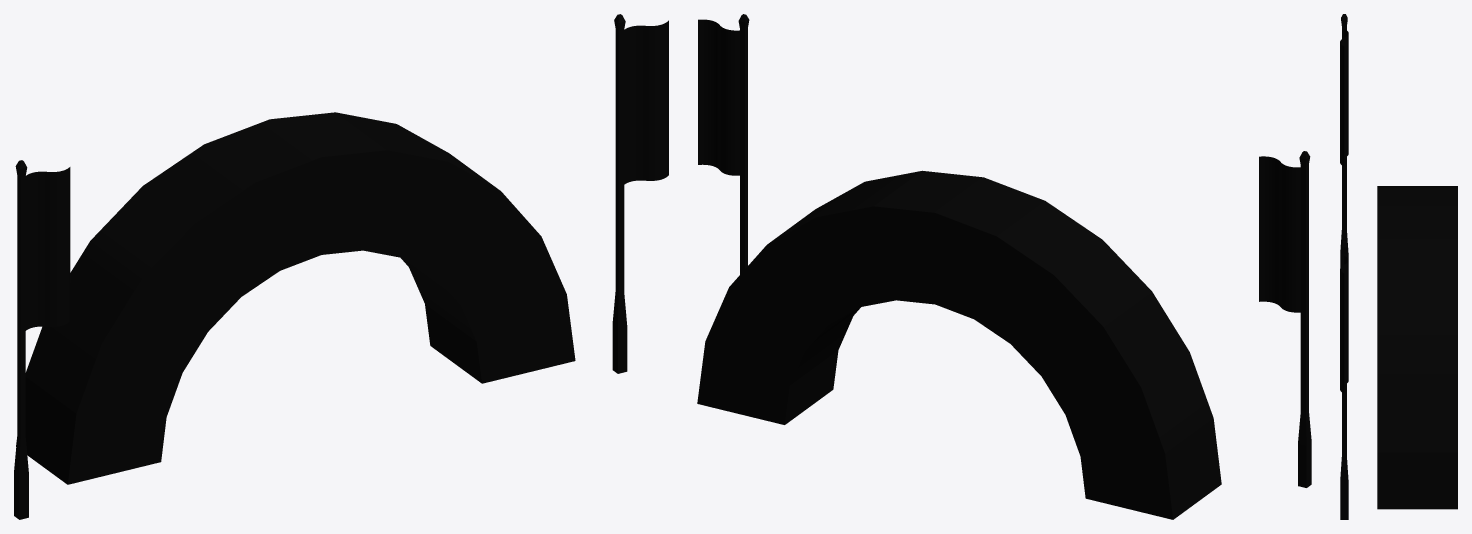
The model's file is gantry.glb.
The picture shows the model from 3 angles, left to right: view 1: azimuth 30°, elevation 25°; view 2: azimuth 150°, elevation 25°; view 3: azimuth 270°, elevation 25°; orthographic projection. The views are drawn at different scales.
Visible parts, largest first — view 1: Mesh overheadRoundColored; view 2: Mesh overheadRoundColored; view 3: Mesh overheadRoundColored.
Boxes of the visible parts, left/top/right/bottom form: Mesh overheadRoundColored: left=14, top=14, right=668, bottom=519; Mesh overheadRoundColored: left=697, top=14, right=1311, bottom=519; Mesh overheadRoundColored: left=1340, top=14, right=1457, bottom=519.
Size of the model in its own units: 2.4 by 1.25 by 0.4826.
Materials: 1 (1 with a texture image).
